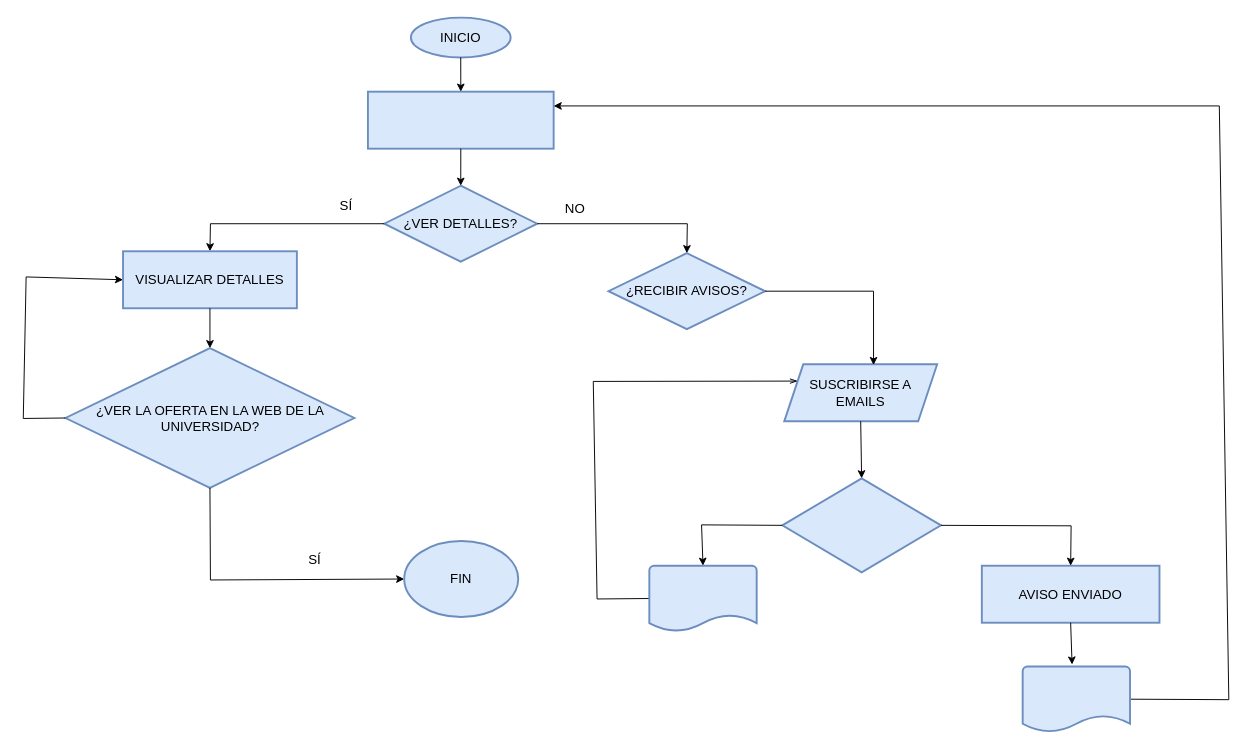
Image size: 1253x749. Some labels were removed from this diagram. The shapes that lost their labels are listed below. From the top down, each one's box as (x1, y1, x2, y2) in pixels, then its label:
(367, 90, 554, 149): VISUALIZACIÓN LISTADO CONVOCATORIAS
(781, 477, 941, 573): ¿EMAIL CORRECTO?
(648, 564, 757, 632): VENTANA ERROR
(1021, 665, 1130, 732): VENTANA VALIDACIÓN
